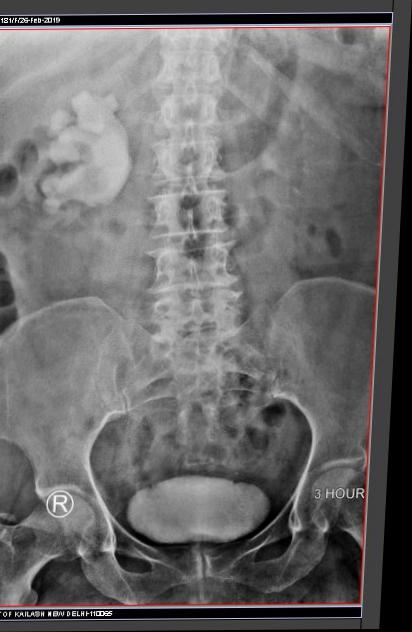bladder: (122, 485, 303, 570)
vertebrae: (168, 78, 240, 121)
